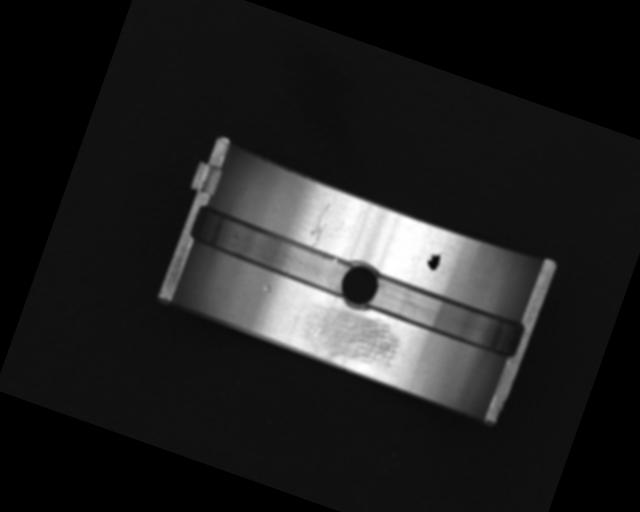blot: (423, 246, 445, 273)
bruise: (260, 282, 274, 295)
gap: (188, 203, 357, 300), (364, 271, 527, 361)
hole: (333, 255, 385, 313)
nick: (305, 198, 335, 249)
scratch: (293, 296, 406, 381)
